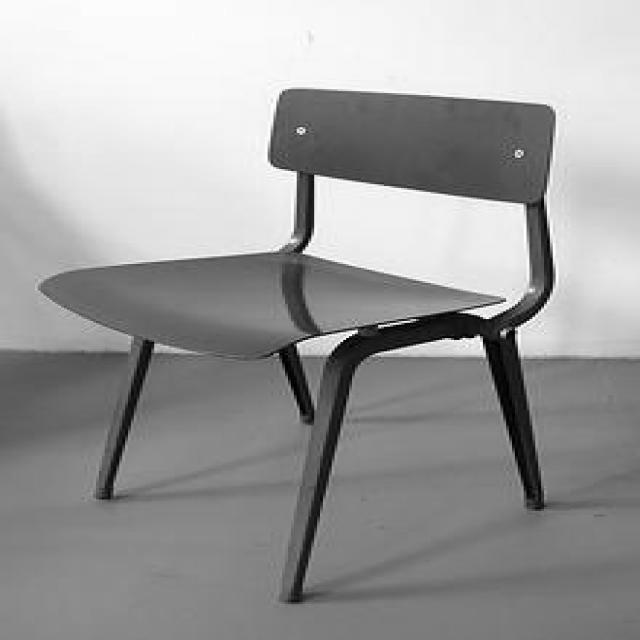chair: (35, 85, 563, 602)
